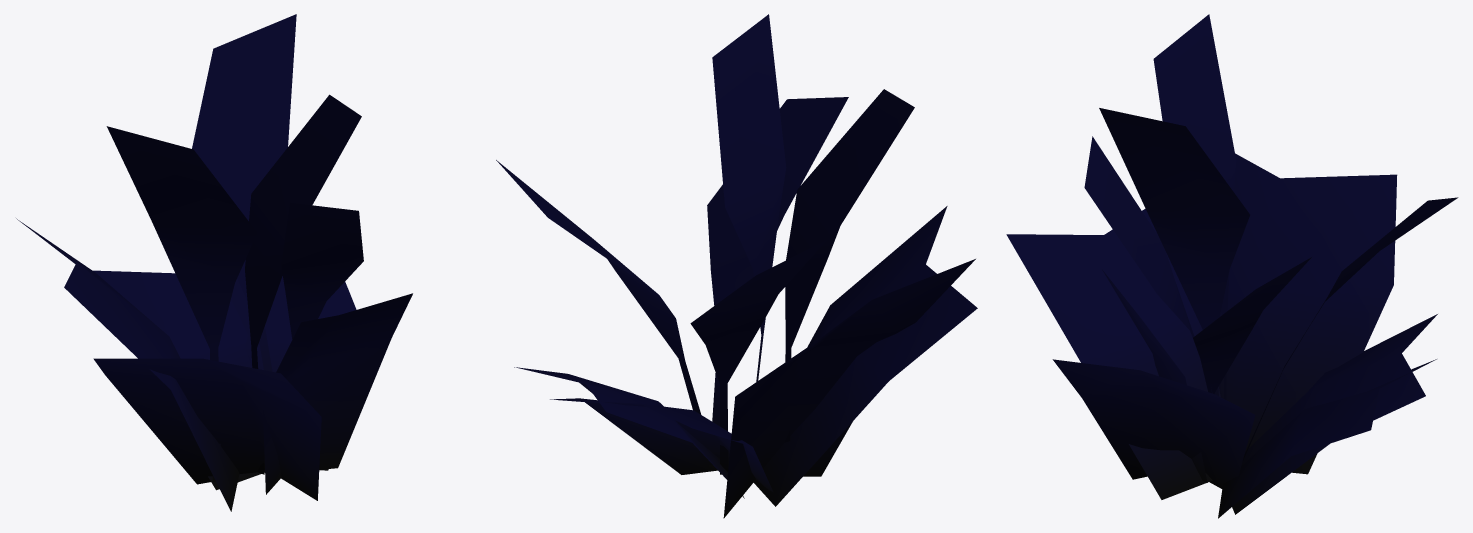
The model's file is SM_Foliage_ReedB_03.fbx.
3 views of the same model, side by side, from view 1: azimuth 30°, elevation 25°; view 2: azimuth 150°, elevation 25°; view 3: azimuth 270°, elevation 25° (orthographic). The views are drawn at different scales.
Visible parts, largest first — view 1: SM_Foliage_ReedB_03; view 2: SM_Foliage_ReedB_03; view 3: SM_Foliage_ReedB_03.
Boxes of the visible parts, x1=… form: SM_Foliage_ReedB_03: x1=16, y1=14, x2=412, y2=511; SM_Foliage_ReedB_03: x1=496, y1=14, x2=977, y2=518; SM_Foliage_ReedB_03: x1=1006, y1=14, x2=1458, y2=518.
Bounding box in the file's own units: 114 × 121 × 117.
